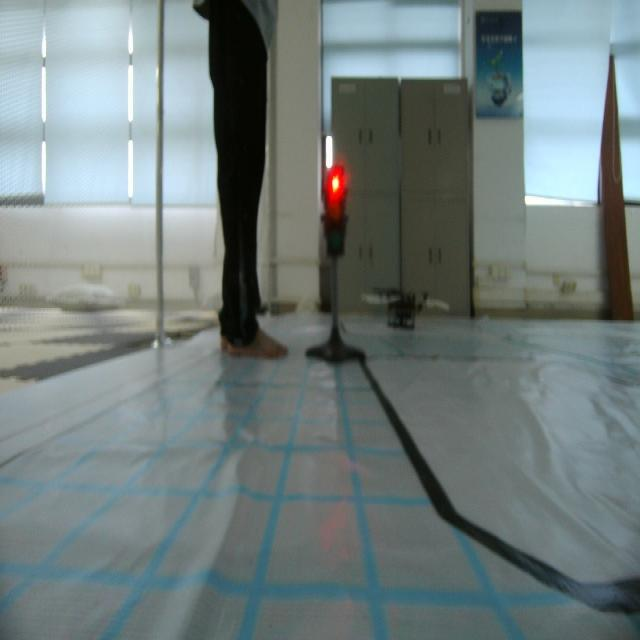red: (322, 166, 348, 258)
